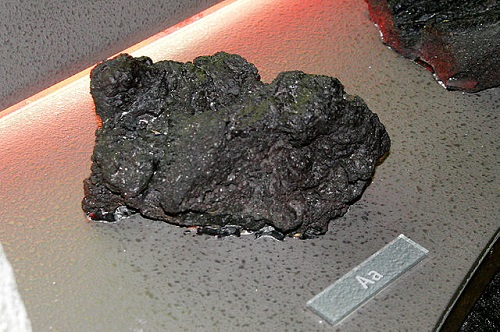volcanic_rock: (89, 66, 371, 234)
